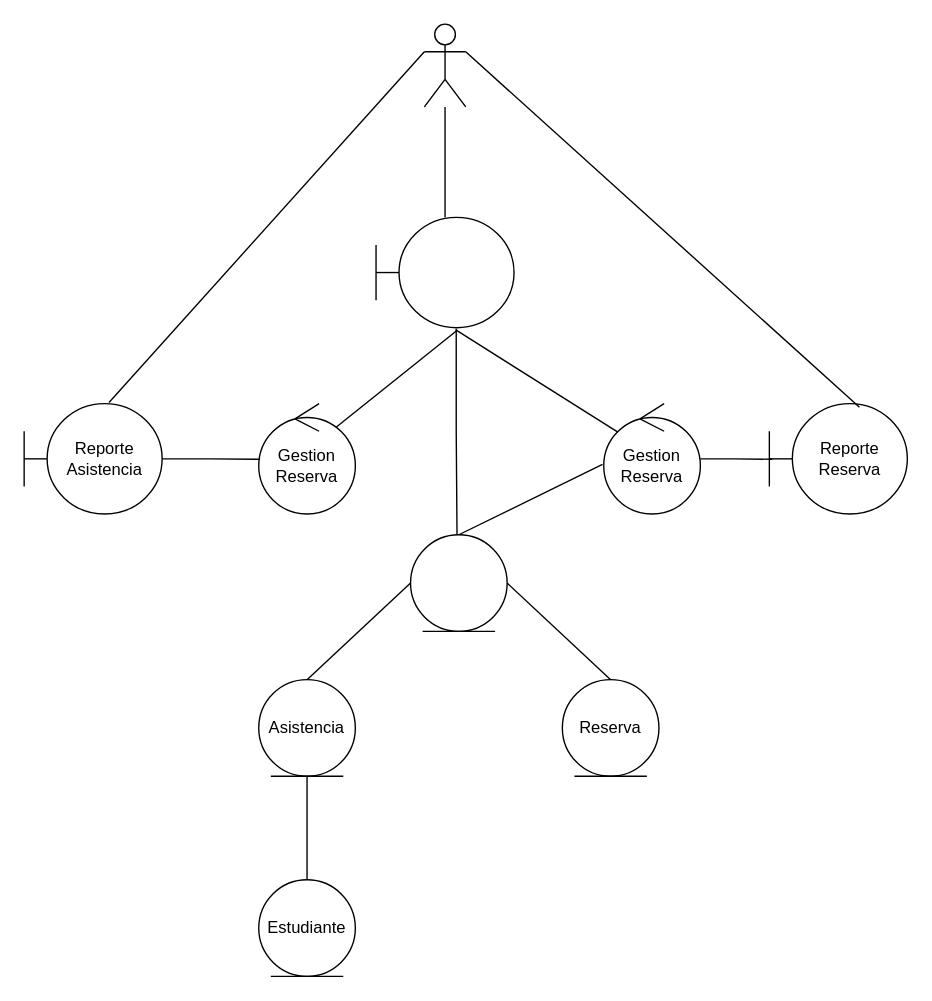
The diagram is 932 pixels wide and 1001 high, and some of its shapes have lost their labels. The shapes that lost their labels are listed below. From the top down, each one's box as (x1, y1, x2, y2) in pixels, then its label:
(423, 23, 466, 107): Organizador
(375, 216, 514, 328): Pantalla Eventos
(409, 533, 507, 631): Evento
